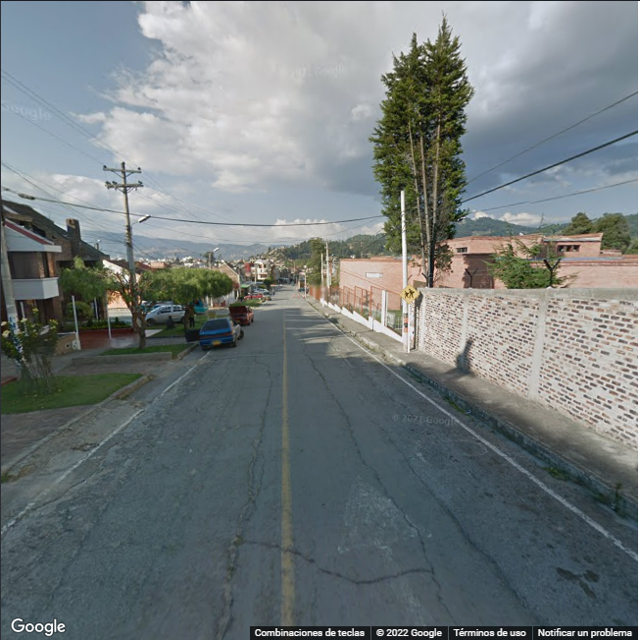D00: (336, 409, 437, 570), (36, 492, 116, 620), (232, 450, 265, 632), (128, 533, 170, 617), (430, 570, 459, 630)
D10: (238, 541, 439, 581)
